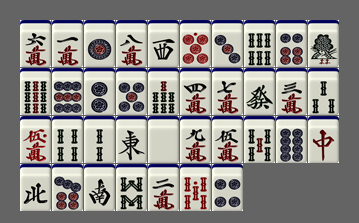0m: (20, 116, 51, 163)
0p: (180, 20, 211, 67)
0s: (180, 164, 211, 211)
1m: (52, 20, 83, 67)
1p: (84, 20, 115, 67)
1s: (308, 20, 339, 67)
1z: (116, 116, 147, 163)
2m: (148, 164, 179, 211)
2p: (84, 68, 115, 115)
2s: (84, 116, 115, 163)
2z: (84, 164, 115, 211)
3m: (276, 68, 307, 115)
3p: (212, 20, 243, 67)
3s: (308, 68, 339, 115)
3z: (148, 20, 179, 67)
4m: (180, 68, 211, 115)
4p: (212, 164, 243, 211)
4s: (52, 116, 83, 163)
4z: (20, 164, 51, 211)
5m: (212, 116, 243, 163)
5p: (116, 68, 147, 115)
5s: (244, 116, 275, 163)
5z: (148, 116, 179, 163)
6m: (20, 20, 51, 67)
6p: (276, 20, 307, 67)
6s: (244, 20, 275, 67)
6z: (244, 68, 275, 115)
7m: (212, 68, 243, 115)
7p: (52, 164, 83, 211)
7s: (148, 68, 179, 115)
7z: (308, 116, 339, 163)
8m: (116, 20, 147, 67)
8p: (276, 116, 307, 163)
8s: (116, 164, 147, 211)
9m: (180, 116, 211, 163)
9p: (52, 68, 83, 115)
9s: (20, 68, 51, 115)
